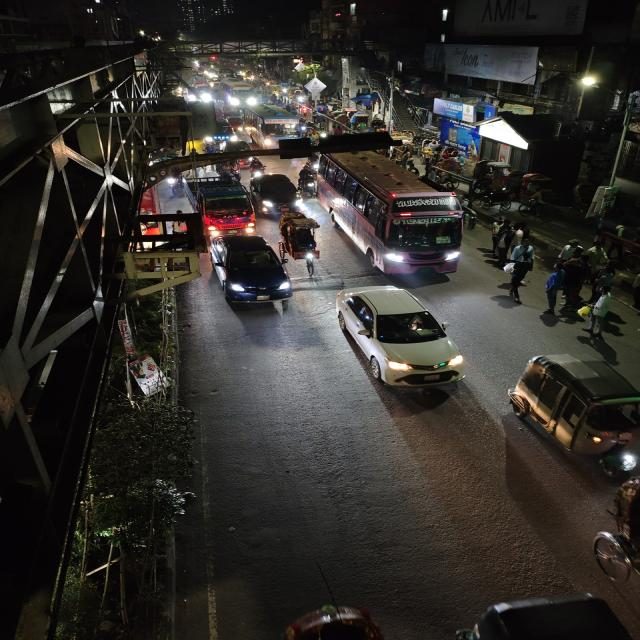bus: (317, 150, 469, 277), (248, 105, 308, 147), (219, 78, 258, 108)
car: (330, 282, 478, 404), (507, 352, 640, 481), (205, 234, 296, 313), (248, 172, 302, 216)
motorcycle: (297, 159, 320, 195), (248, 157, 270, 179)
pedestrian: (538, 261, 576, 314), (580, 286, 617, 339), (502, 253, 538, 299), (488, 218, 514, 260), (555, 240, 583, 266)
pickup_van: (188, 180, 257, 234)
rickshaw: (278, 213, 325, 273)
